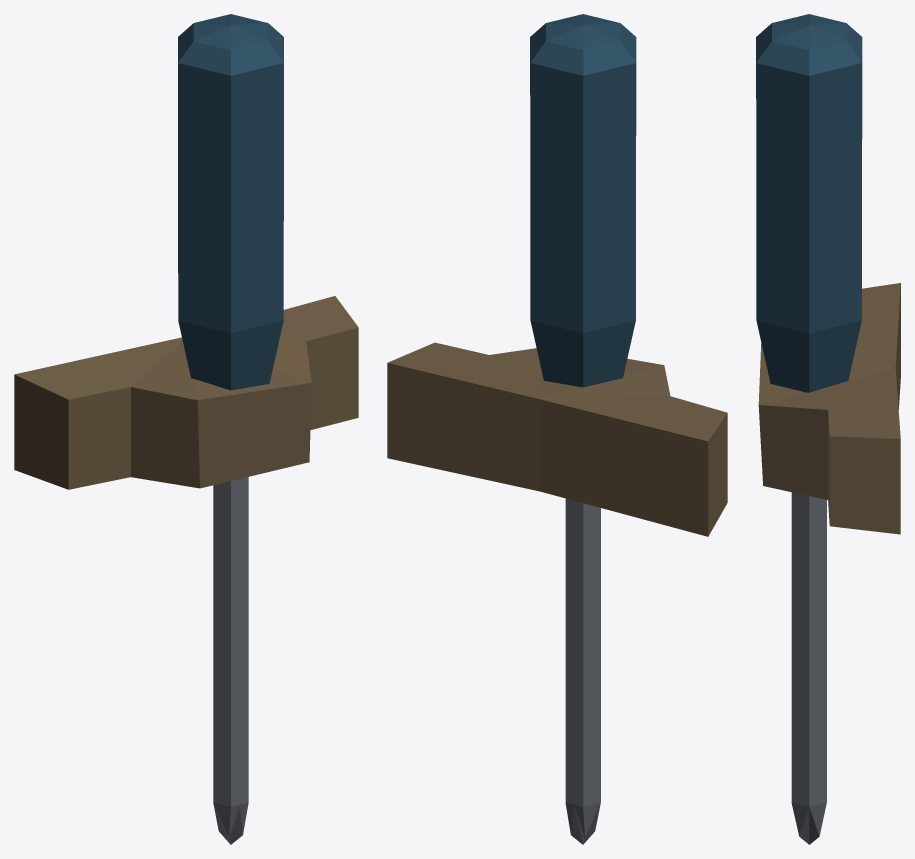
File: SM_Chr_Attach_Tool_02.fbx
The picture shows the model from 3 angles, left to right: view 1: azimuth 30°, elevation 25°; view 2: azimuth 150°, elevation 25°; view 3: azimuth 270°, elevation 25°; orthographic projection.
Visible parts, largest first — view 1: SM_Chr_Attach_Tool_02; view 2: SM_Chr_Attach_Tool_02; view 3: SM_Chr_Attach_Tool_02.
Part boxes in pixels (bbox=[...]): SM_Chr_Attach_Tool_02: bbox=[14, 14, 358, 844]; SM_Chr_Attach_Tool_02: bbox=[387, 14, 727, 844]; SM_Chr_Attach_Tool_02: bbox=[756, 14, 900, 844].
Bounding box in the file's own units: 9.84 × 24.01 × 3.84.
